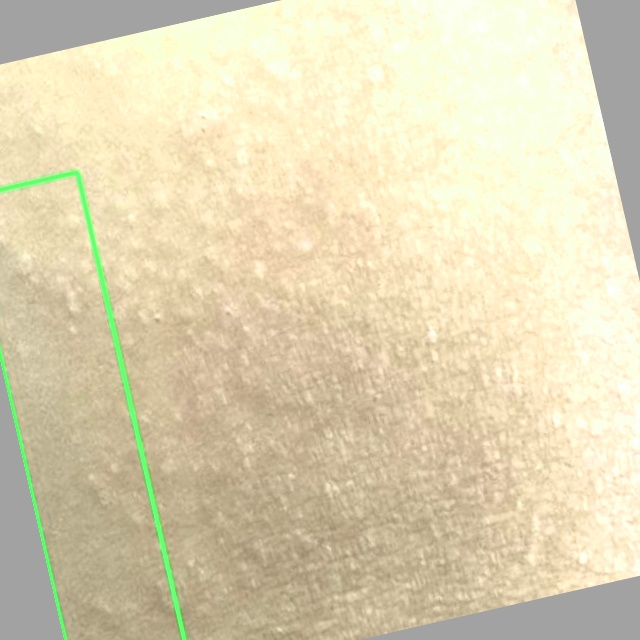Contact Dermatitis: (0, 171, 185, 639)
